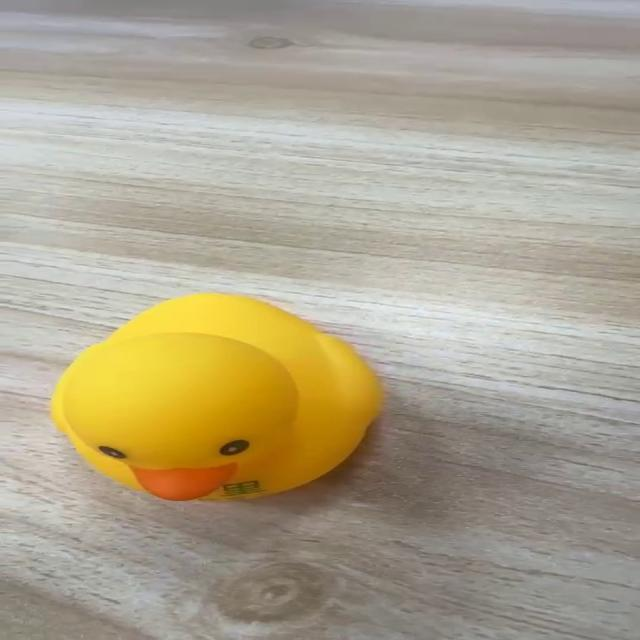yellow_duck: (47, 290, 384, 502)
